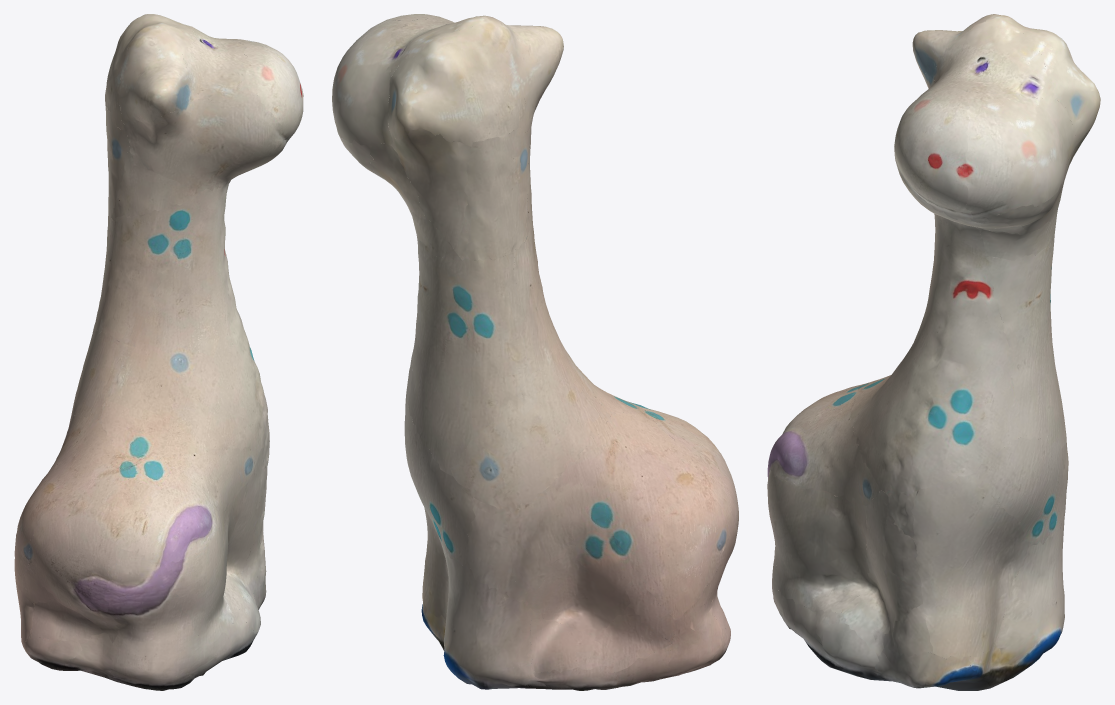
The model's file is asset.glb.
3 renders of one model, left to right at view 1: azimuth 30°, elevation 25°; view 2: azimuth 150°, elevation 25°; view 3: azimuth 270°, elevation 25°, orthographic. The views are drawn at different scales.
Visible parts, largest first — view 1: Mesh_0; view 2: Mesh_0; view 3: Mesh_0.
Boxes of the visible parts, x1=… form: Mesh_0: x1=14, y1=14, x2=303, y2=690; Mesh_0: x1=332, y1=14, x2=738, y2=690; Mesh_0: x1=767, y1=14, x2=1100, y2=690.
Bounding box in the file's own units: 0.4652 × 0.8722 × 0.3957.
Materials: 1 (1 with a texture image).
